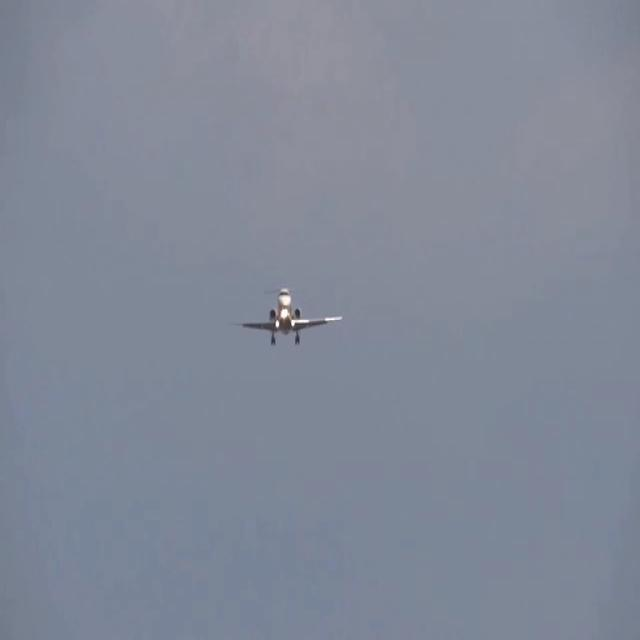AirPlane: (220, 273, 351, 355)
